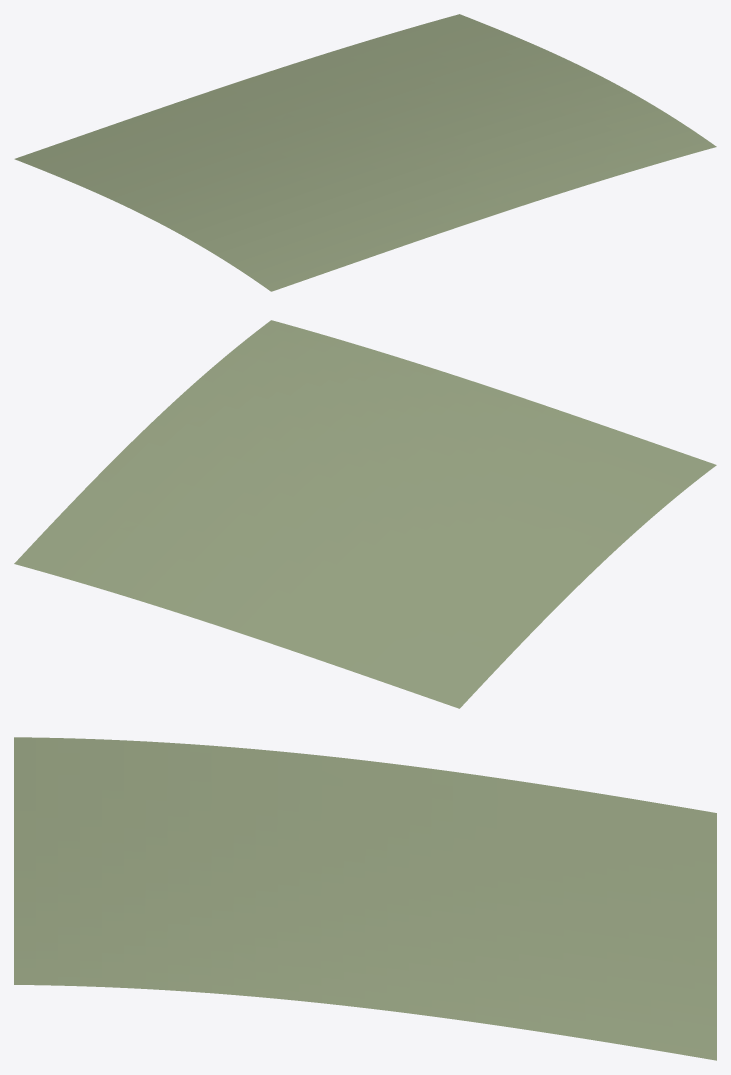
Rendered from valley-1-14.glb.
3 renders of one model, top to bottom at view 1: azimuth 30°, elevation 25°; view 2: azimuth 150°, elevation 25°; view 3: azimuth 270°, elevation 25°, orthographic. The views are drawn at different scales.
Visible parts, largest first — view 1: valley-1-14; view 2: valley-1-14; view 3: valley-1-14.
Part boxes in pixels (<box>): valley-1-14: <box>14,14,716,291</box>; valley-1-14: <box>14,320,716,708</box>; valley-1-14: <box>14,737,716,1060</box>.
Bounding box in the file's own units: 256 × 50.35 × 256.
